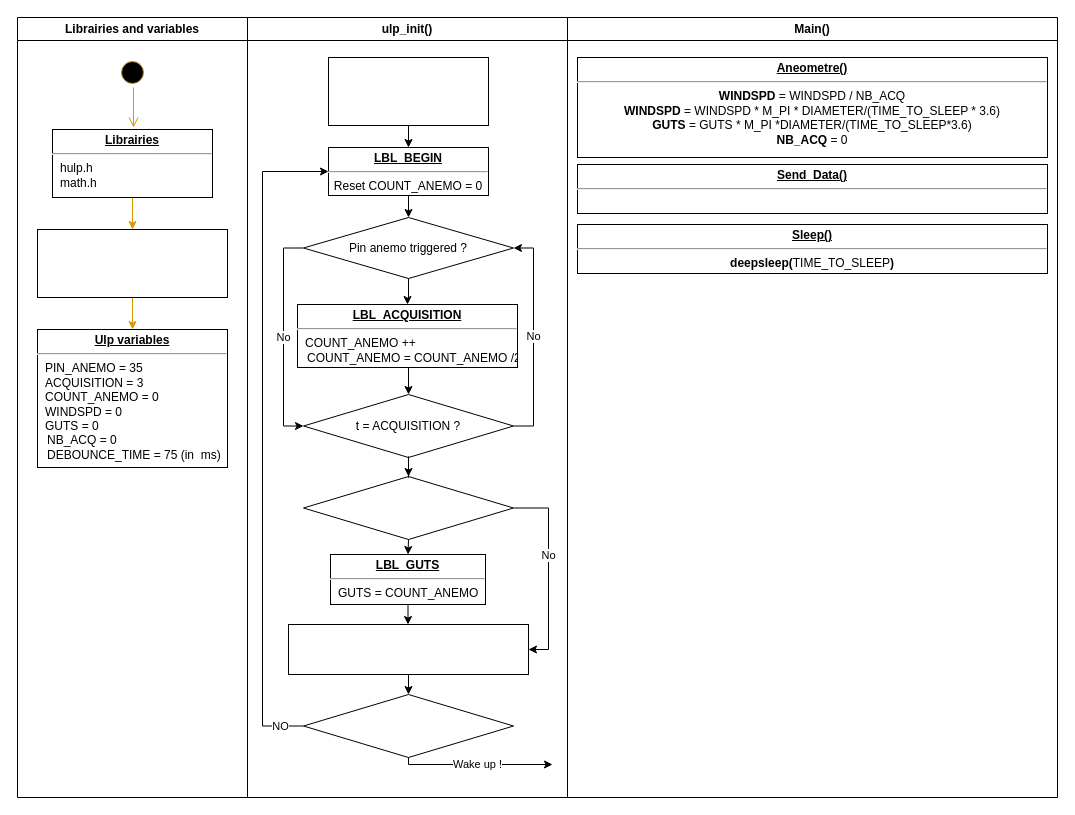
This 1075x815 diagram has some shape labels left out. The shapes that lost their labels are listed below. From the top down, each one's box as (x1, y1, x2, y2) in pixels, then its label:
(116, 56, 148, 88): t=0
(328, 56, 488, 126): Labels LBL_BEGIN LBL_ACQUISITION
(36, 228, 228, 298): SoC variables TIME_TO_SLEEP = 60 (in s) DIAMETER = 0.07
(302, 476, 514, 540): COUNT_ANEMO > GUTS
(288, 624, 528, 674): NB_ACQ ++ WINDSPD = + COUNT_ANEMO
(302, 694, 514, 758): t = TIME_TO_SLEEP ?
